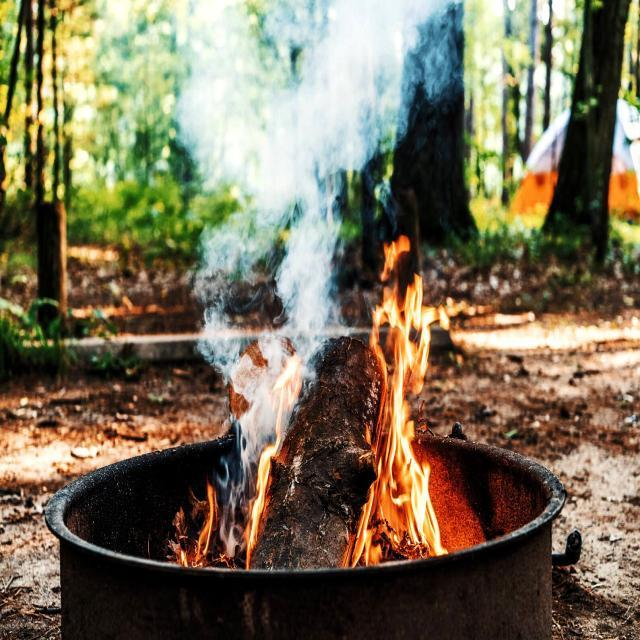Fire: (350, 232, 480, 562), (167, 422, 307, 570)
Smoke: (181, 19, 401, 410)
